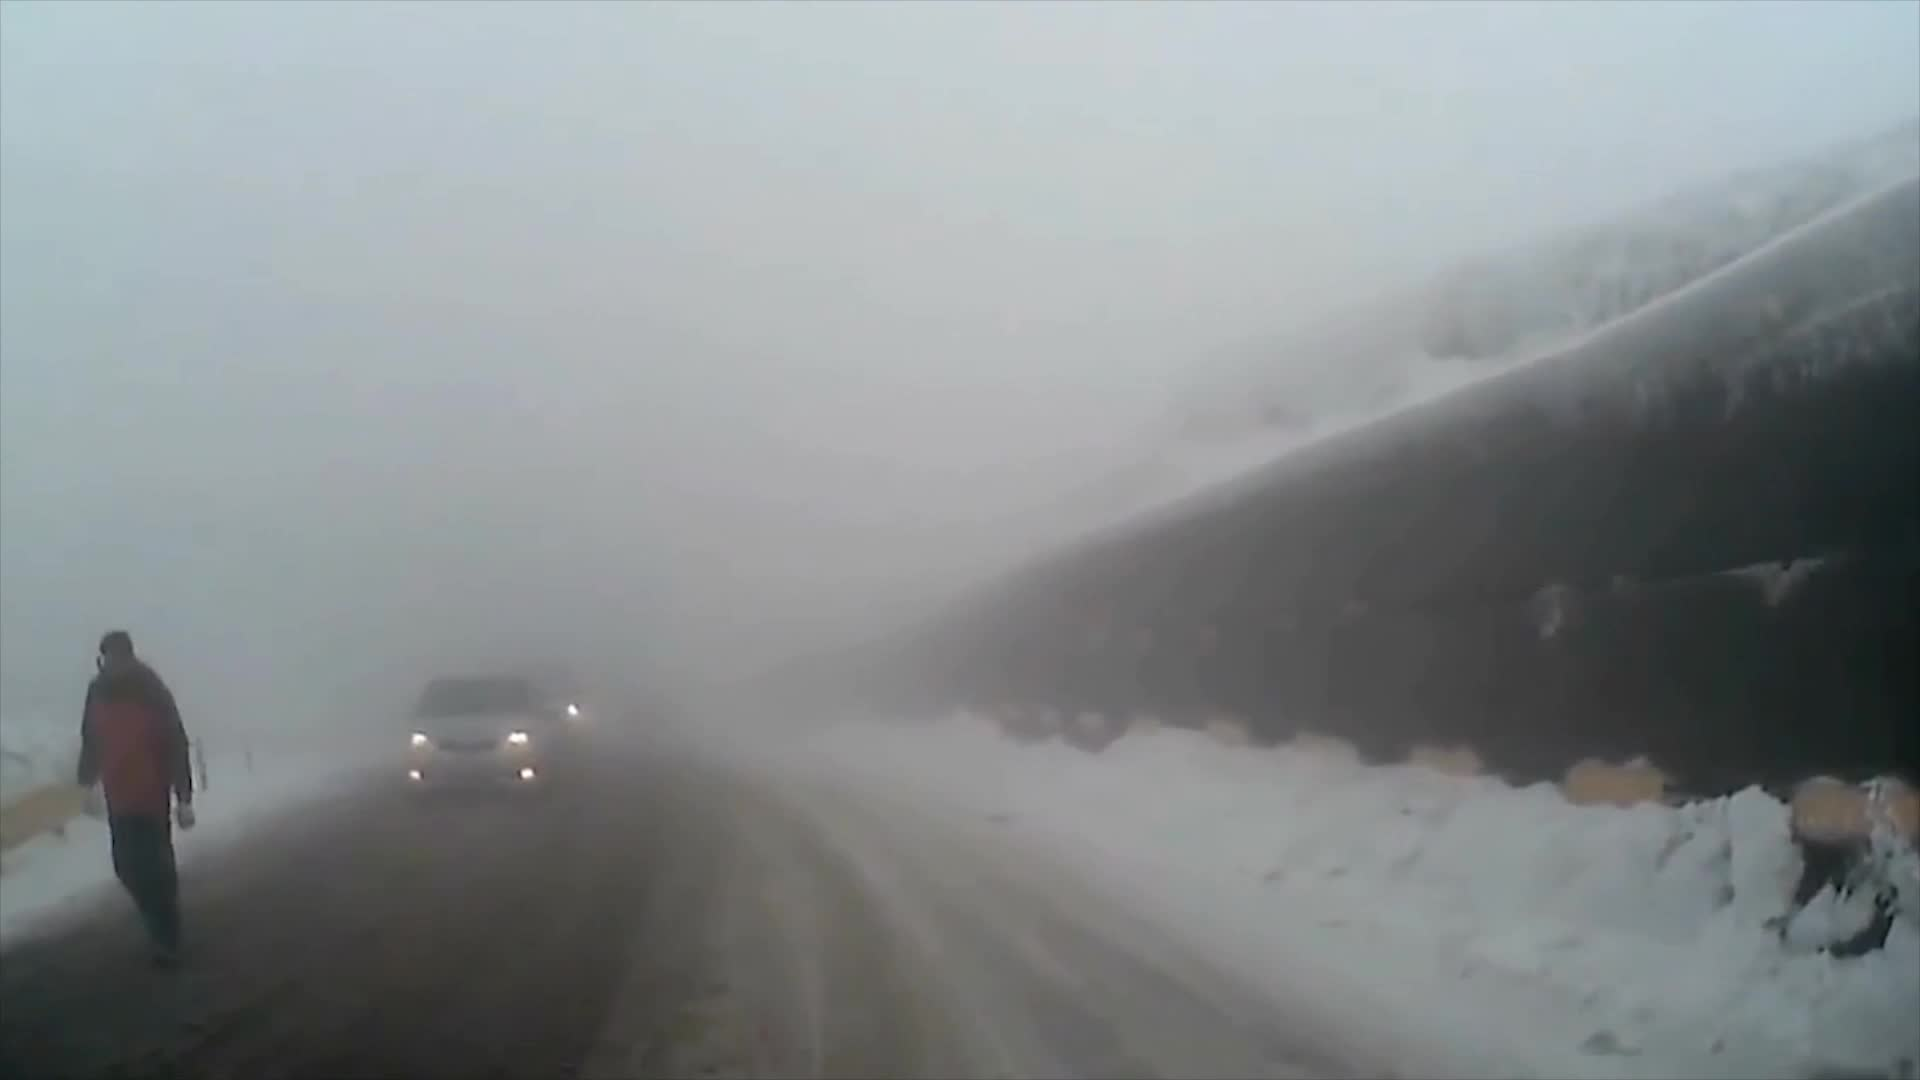pedestrian: (76, 626, 196, 963)
vehicle: (398, 671, 552, 804)
